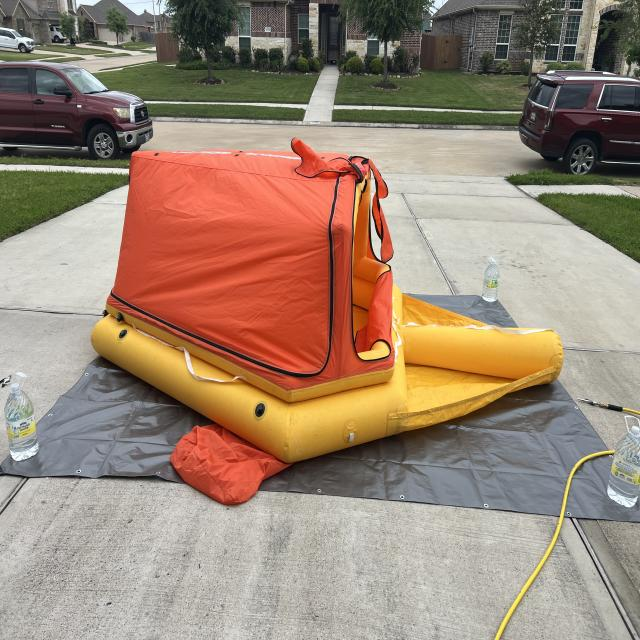Multi-person_life_raft: (90, 138, 564, 506)
